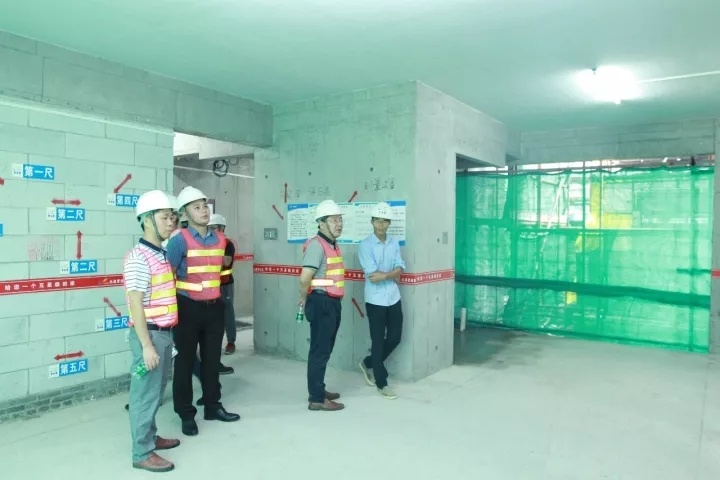white: (133, 189, 174, 239), (176, 185, 212, 228), (315, 201, 345, 240), (371, 201, 392, 234), (205, 213, 227, 236)
